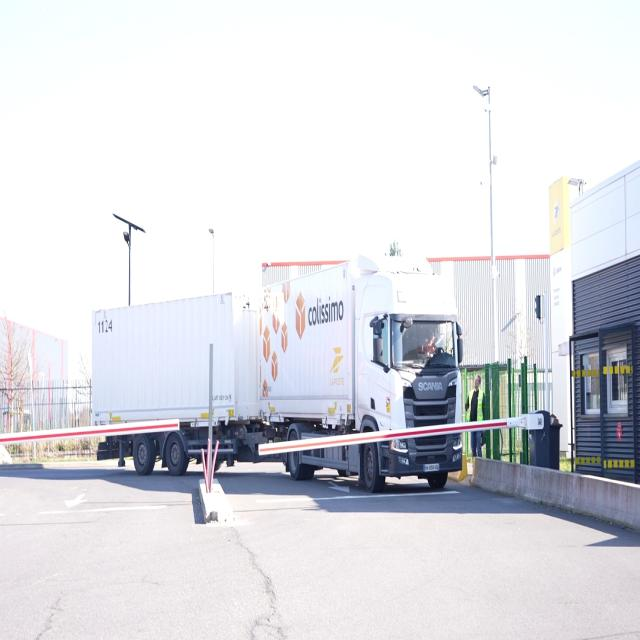Code: (93, 312, 117, 338)
